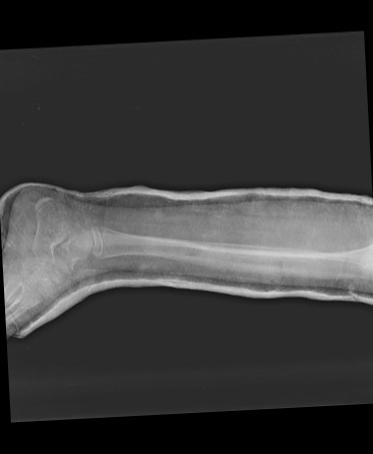fractured: (160, 238, 211, 263)
